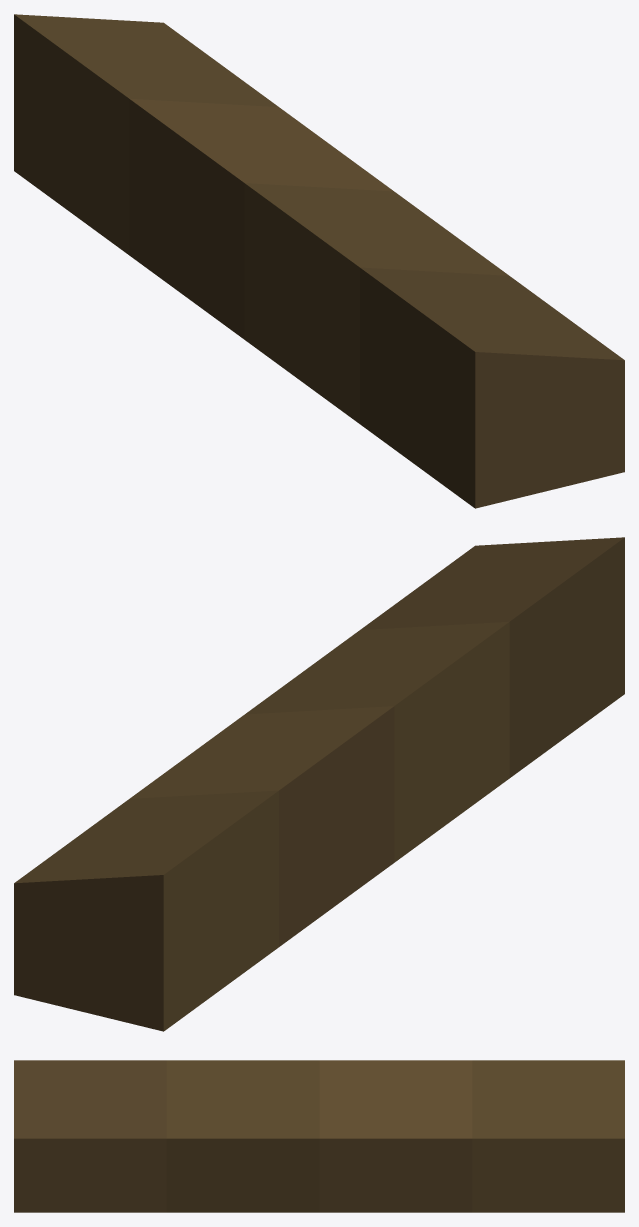
File: W10_River_Bank_4m.fbx
The picture shows the model from 3 angles, top to bottom: view 1: azimuth 30°, elevation 25°; view 2: azimuth 150°, elevation 25°; view 3: azimuth 270°, elevation 25°; orthographic projection. The views are drawn at different scales.
Parts seen in each view (by area): view 1: W10_River_Bank_4m; view 2: W10_River_Bank_4m; view 3: W10_River_Bank_4m.
Part boxes in pixels (x1,y1,x2,y2): W10_River_Bank_4m: (14, 14, 624, 508); W10_River_Bank_4m: (14, 537, 624, 1031); W10_River_Bank_4m: (14, 1060, 624, 1212).
Bounding box in the file's own units: 0.75 × 0.75 × 4.
1 material, 1 textured.
